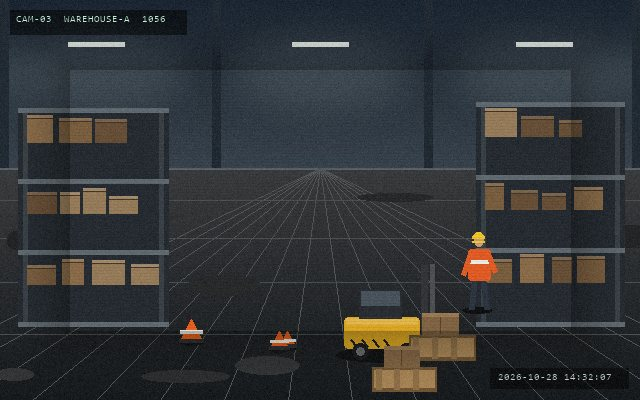cone: (178, 317, 204, 345), (268, 329, 290, 352), (277, 329, 297, 350)
forklift: (340, 262, 460, 362)
pallet: (407, 333, 477, 362), (370, 365, 438, 393)
person: (461, 230, 496, 312)
shelf: (476, 102, 624, 322), (18, 108, 168, 322)
